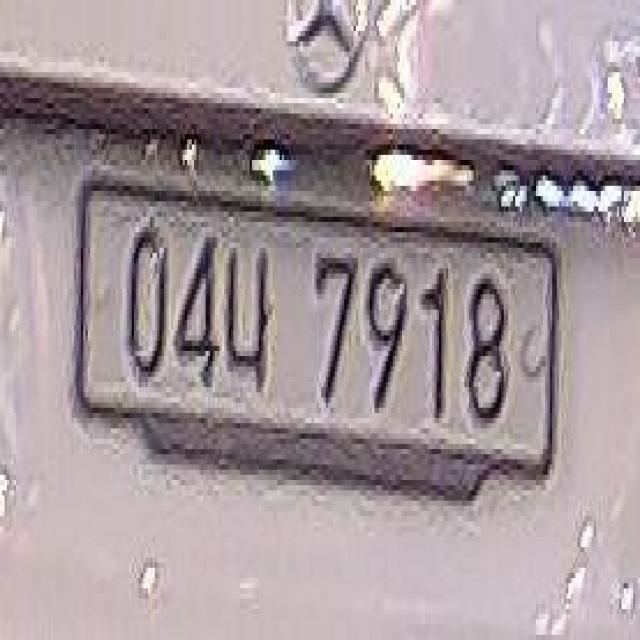illegal_plate: (78, 170, 563, 522)
